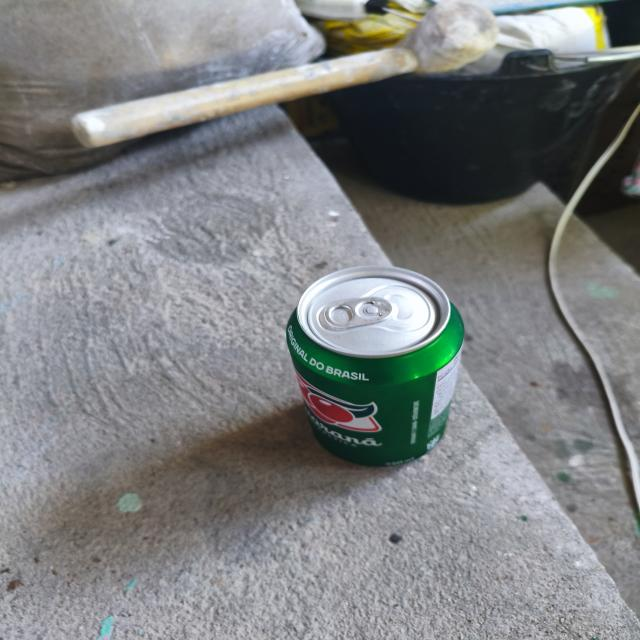Guarana: (266, 258, 510, 494)
